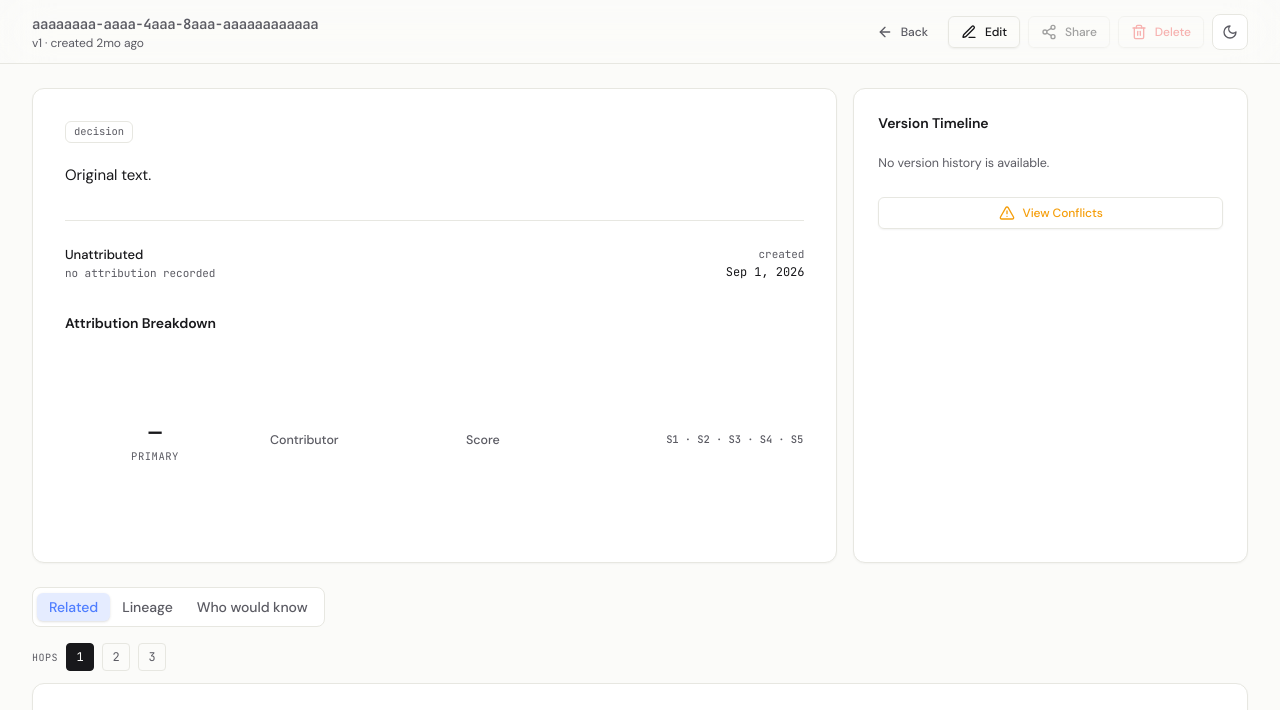
Test: a PATCH answered source_retired › no_replacement on the PATCH keeps the draft and names the situation
Click the button with test id "mem-edit".
click(984, 32)  # box [948,16,1020,48]
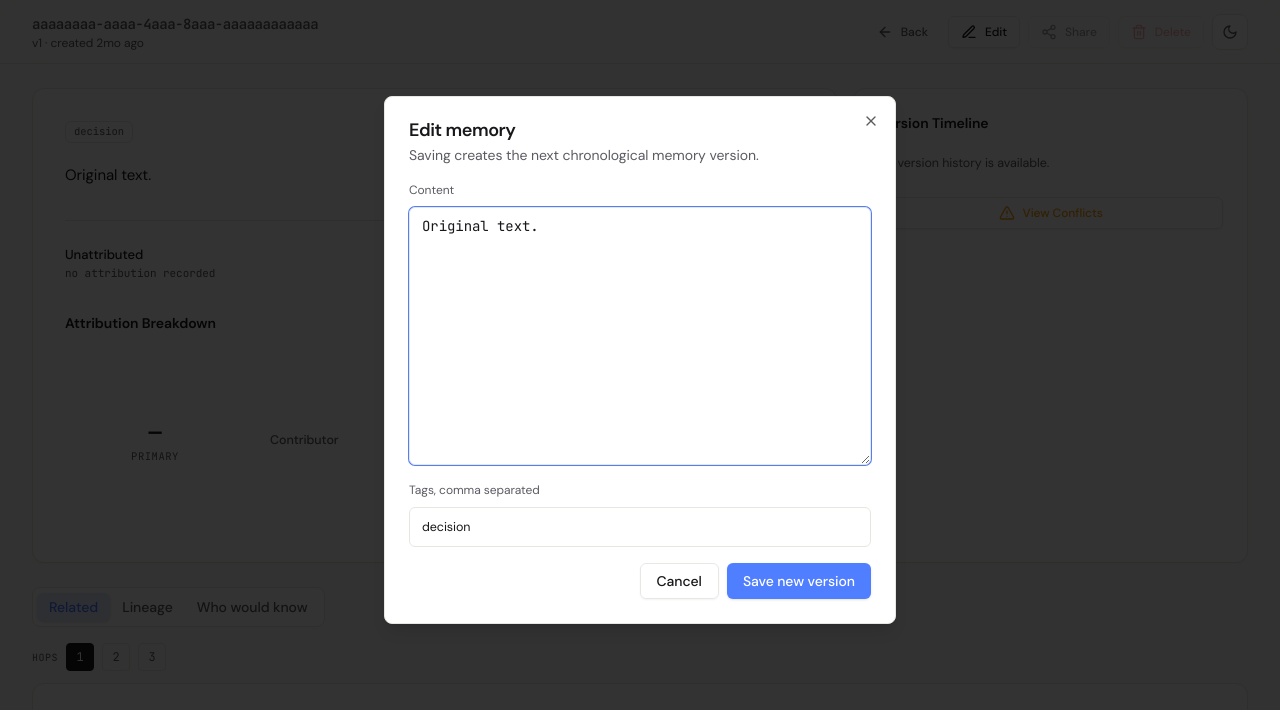
Replace the text in the text box with test id "memory-edit-content" with "Orphaned edit." at (640, 336), box [409,207,871,465]
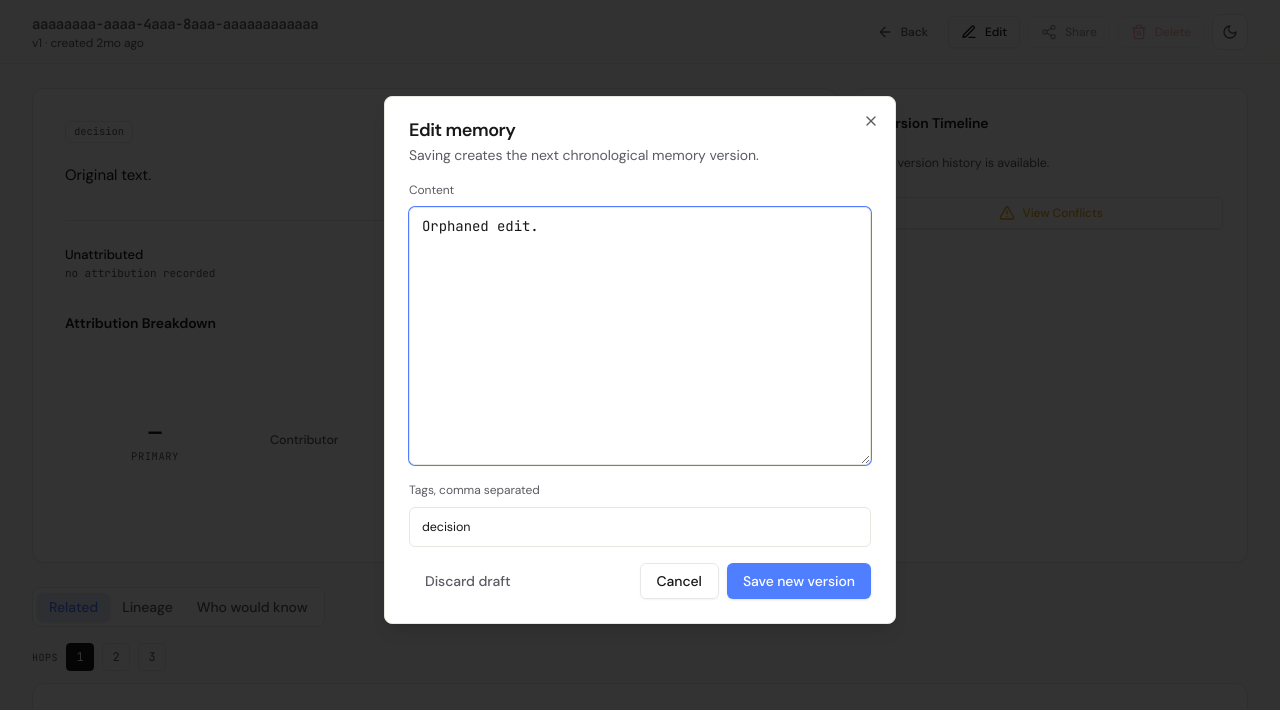
Click the button with test id "memory-edit-save".
click(799, 581)  # box [727,563,871,599]
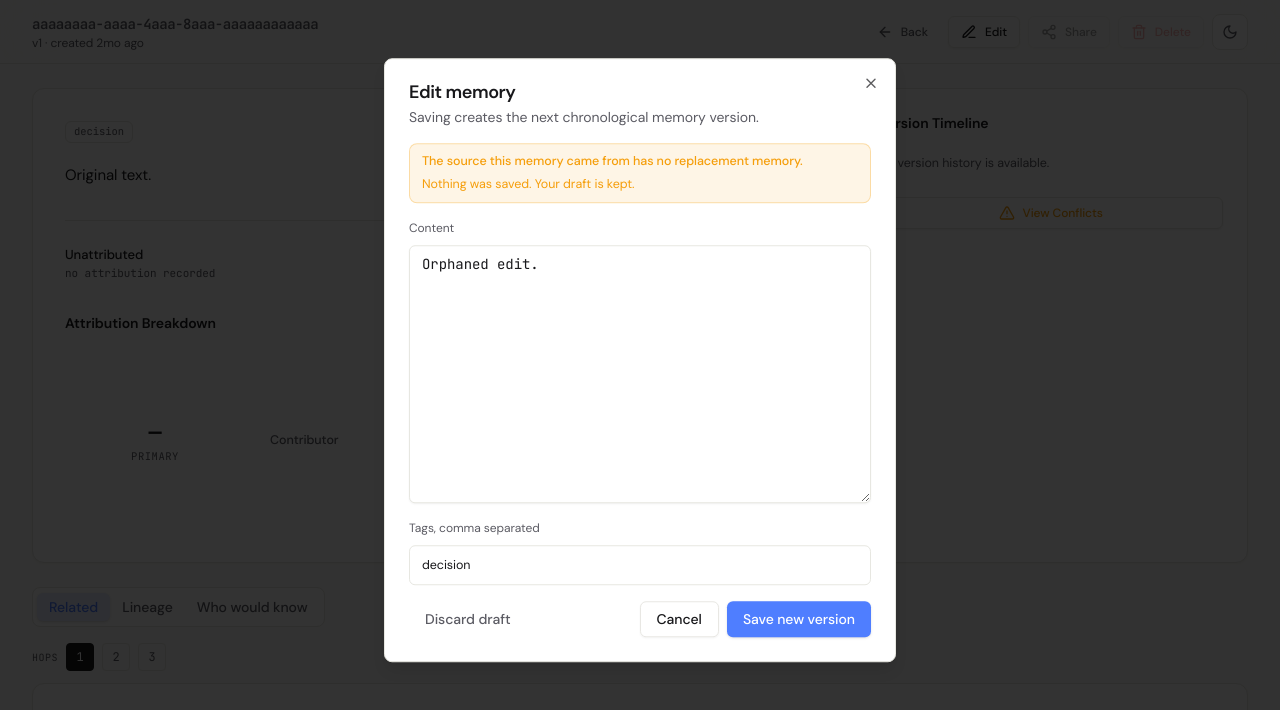
Expected: the message with test id "memory-edit-no-replacement" shows "no replacement memory", [422,153,803,169]
